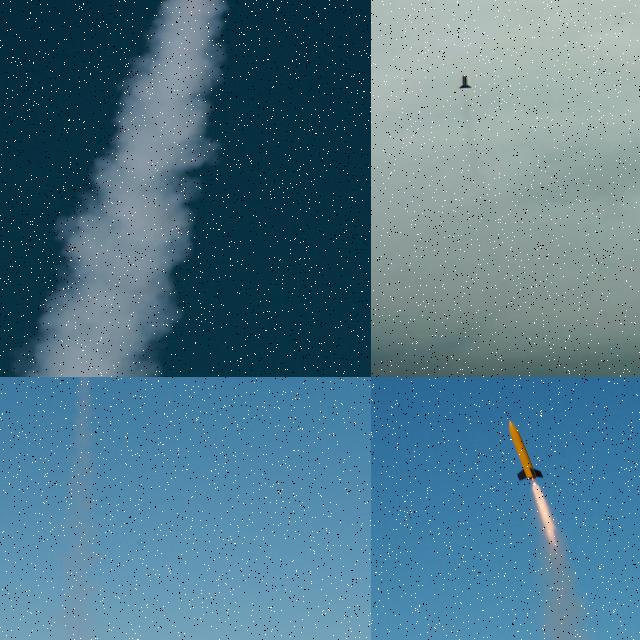Rocket: (507, 419, 545, 481), (458, 74, 472, 90)
